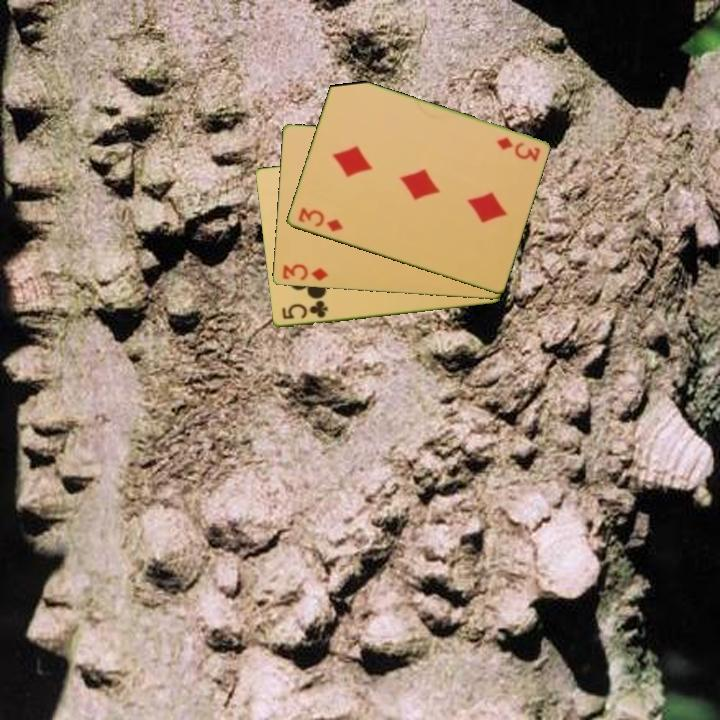3d: (294, 204, 346, 235), (493, 134, 543, 164), (279, 261, 330, 284)
5c: (278, 297, 331, 322)
